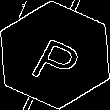P_NE: (24, 24, 86, 86)
